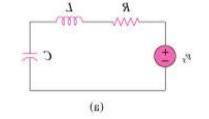Capacitor: (15, 46, 42, 66)
